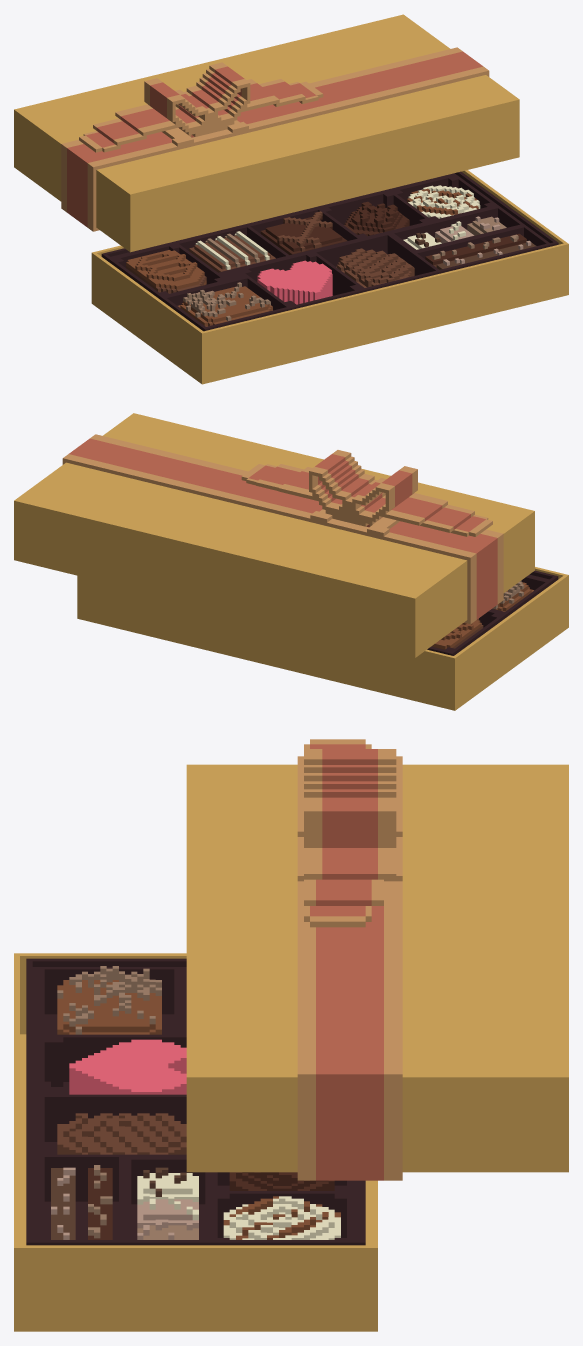
The model's file is chocolate.glb.
The picture shows the model from 3 angles, top to bottom: view 1: azimuth 30°, elevation 25°; view 2: azimuth 150°, elevation 25°; view 3: azimuth 270°, elevation 25°; orthographic projection. The views are drawn at different scales.
Visible parts, largest first — view 1: Object_2; view 2: Object_2; view 3: Object_2.
Part boxes in pixels (x1,y1,x2,y2): Object_2: [14, 14, 568, 384]; Object_2: [14, 413, 568, 710]; Object_2: [14, 739, 568, 1331].
Size of the model in its own units: 122 by 60 by 90.
1 material, 1 textured.
